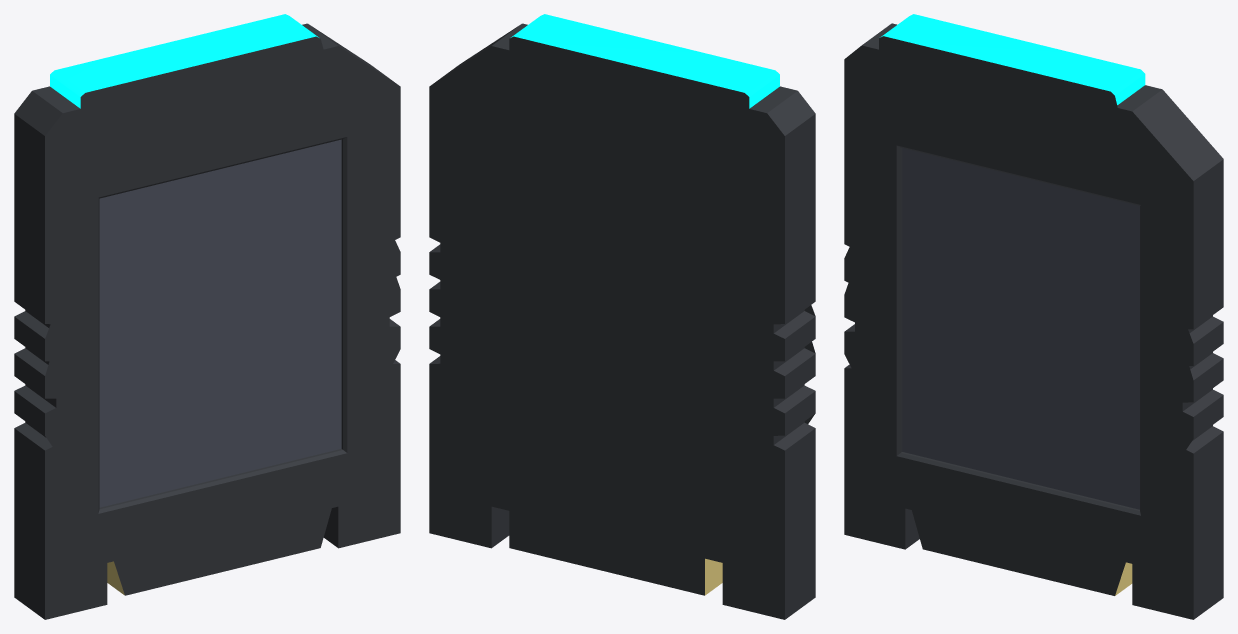
Rendered from cartridge.glb.
The picture shows the model from 3 angles, left to right: view 1: azimuth 30°, elevation 25°; view 2: azimuth 150°, elevation 25°; view 3: azimuth 330°, elevation 25°; orthographic projection.
Visible parts, largest first — view 1: SM_DataCartridge; view 2: SM_DataCartridge; view 3: SM_DataCartridge.
Boxes of the visible parts, x1,y1,x2,y2 form: SM_DataCartridge: (14,14,400,619); SM_DataCartridge: (429,14,815,619); SM_DataCartridge: (844,14,1223,619).
Bounding box in the file's own units: 0.08 × 0.1112 × 0.012.
